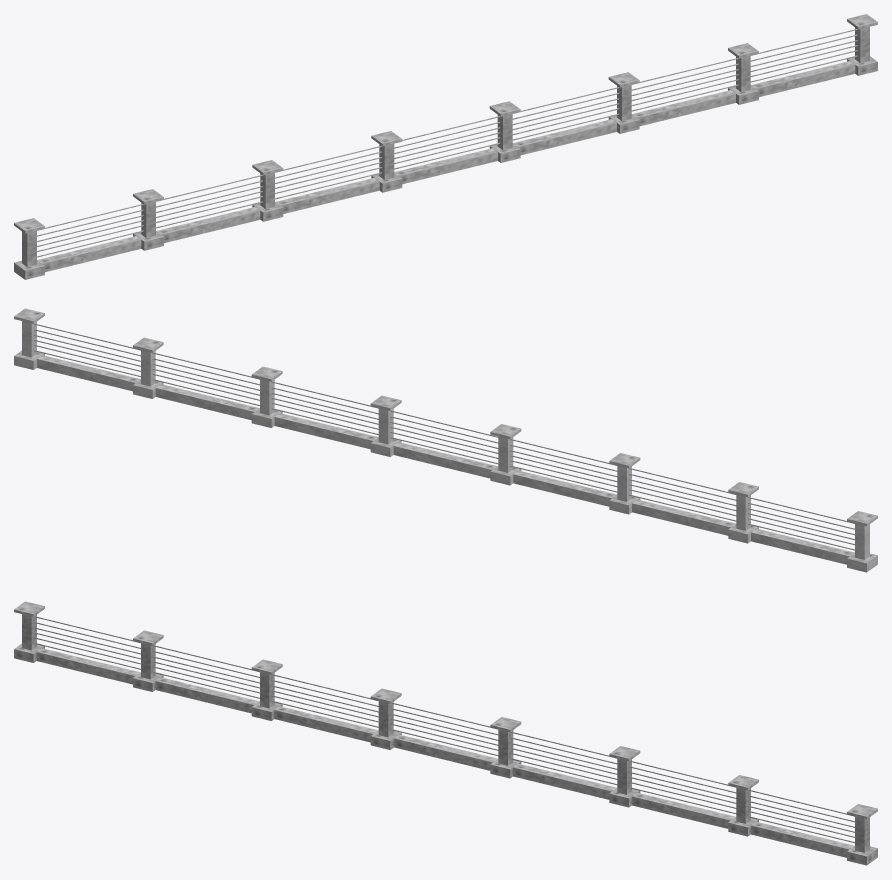
File: Congtruong1.obj
The picture shows the model from 3 angles, top to bottom: view 1: azimuth 30°, elevation 25°; view 2: azimuth 150°, elevation 25°; view 3: azimuth 330°, elevation 25°; orthographic projection.
Parts seen in each view (by area): view 1: Mesh1 Group2 Group1 H_ng_d_o_tr_i1 Model, Mesh41 Group40 Group1 H_ng_d_o_tr_i1 Model, Mesh12 Group12 Group1 H_ng_d_o_tr_i1 Model, Mesh51 Group50 Group1 H_ng_d_o_tr_i1 Model, Mesh21 Group21 Group1 H_ng_d_o_tr_i1 Model, Mesh30 Group30 Group1 H_ng_d_o_tr_i1 Model, Mesh50 Group49 Group1 H_ng_d_o_tr_i1 Model, Mesh10 Group11 Group1 H_ng_d_o_tr_i1 Model, Mesh13 Group13 Group1 H_ng_d_o_tr_i1 Model, Mesh42 Group41 Group1 H_ng_d_o_tr_i1 Model, Mesh33 Group32 Group1 H_ng_d_o_tr_i1 Model, Mesh52 Group51 Group1 H_ng_d_o_tr_i1 Model (+3 smaller); view 2: Mesh50 Group49 Group1 H_ng_d_o_tr_i1 Model, Mesh21 Group21 Group1 H_ng_d_o_tr_i1 Model, Mesh41 Group40 Group1 H_ng_d_o_tr_i1 Model, Mesh51 Group50 Group1 H_ng_d_o_tr_i1 Model, Mesh30 Group30 Group1 H_ng_d_o_tr_i1 Model, Mesh12 Group12 Group1 H_ng_d_o_tr_i1 Model, Mesh1 Group2 Group1 H_ng_d_o_tr_i1 Model, Mesh10 Group11 Group1 H_ng_d_o_tr_i1 Model, Mesh13 Group13 Group1 H_ng_d_o_tr_i1 Model, Mesh42 Group41 Group1 H_ng_d_o_tr_i1 Model, Mesh52 Group51 Group1 H_ng_d_o_tr_i1 Model, Mesh33 Group32 Group1 H_ng_d_o_tr_i1 Model (+3 smaller); view 3: Mesh12 Group12 Group1 H_ng_d_o_tr_i1 Model, Mesh41 Group40 Group1 H_ng_d_o_tr_i1 Model, Mesh21 Group21 Group1 H_ng_d_o_tr_i1 Model, Mesh50 Group49 Group1 H_ng_d_o_tr_i1 Model, Mesh51 Group50 Group1 H_ng_d_o_tr_i1 Model, Mesh30 Group30 Group1 H_ng_d_o_tr_i1 Model, Mesh1 Group2 Group1 H_ng_d_o_tr_i1 Model, Mesh8 Group10 Group1 H_ng_d_o_tr_i1 Model, Mesh13 Group13 Group1 H_ng_d_o_tr_i1 Model, Mesh42 Group41 Group1 H_ng_d_o_tr_i1 Model, Mesh33 Group32 Group1 H_ng_d_o_tr_i1 Model, Mesh52 Group51 Group1 H_ng_d_o_tr_i1 Model (+3 smaller).
Part boxes in pixels (left/top/right/bottom): Mesh1 Group2 Group1 H_ng_d_o_tr_i1 Model: left=751, top=61, right=855, bottom=97; Mesh41 Group40 Group1 H_ng_d_o_tr_i1 Model: left=156, top=207, right=260, bottom=243; Mesh12 Group12 Group1 H_ng_d_o_tr_i1 Model: left=37, top=236, right=141, bottom=272; Mesh51 Group50 Group1 H_ng_d_o_tr_i1 Model: left=513, top=119, right=616, bottom=155; Mesh21 Group21 Group1 H_ng_d_o_tr_i1 Model: left=276, top=178, right=379, bottom=213; Mesh30 Group30 Group1 H_ng_d_o_tr_i1 Model: left=632, top=90, right=735, bottom=126; Mesh50 Group49 Group1 H_ng_d_o_tr_i1 Model: left=394, top=148, right=497, bottom=184; Mesh10 Group11 Group1 H_ng_d_o_tr_i1 Model: left=14, top=231, right=44, bottom=279; Mesh13 Group13 Group1 H_ng_d_o_tr_i1 Model: left=371, top=143, right=402, bottom=192; Mesh42 Group41 Group1 H_ng_d_o_tr_i1 Model: left=489, top=114, right=520, bottom=162; Mesh33 Group32 Group1 H_ng_d_o_tr_i1 Model: left=252, top=173, right=283, bottom=221; Mesh52 Group51 Group1 H_ng_d_o_tr_i1 Model: left=608, top=85, right=639, bottom=133; Mesh50 Group49 Group1 H_ng_d_o_tr_i1 Model: left=393, top=442, right=497, bottom=478; Mesh21 Group21 Group1 H_ng_d_o_tr_i1 Model: left=513, top=470, right=616, bottom=506; Mesh41 Group40 Group1 H_ng_d_o_tr_i1 Model: left=632, top=499, right=735, bottom=535; Mesh51 Group50 Group1 H_ng_d_o_tr_i1 Model: left=274, top=413, right=378, bottom=449; Mesh30 Group30 Group1 H_ng_d_o_tr_i1 Model: left=155, top=384, right=259, bottom=420; Mesh12 Group12 Group1 H_ng_d_o_tr_i1 Model: left=751, top=528, right=854, bottom=564; Mesh1 Group2 Group1 H_ng_d_o_tr_i1 Model: left=37, top=355, right=140, bottom=391; Mesh10 Group11 Group1 H_ng_d_o_tr_i1 Model: left=847, top=523, right=877, bottom=572; Mesh13 Group13 Group1 H_ng_d_o_tr_i1 Model: left=490, top=436, right=521, bottom=485; Mesh42 Group41 Group1 H_ng_d_o_tr_i1 Model: left=370, top=408, right=401, bottom=456; Mesh52 Group51 Group1 H_ng_d_o_tr_i1 Model: left=251, top=379, right=282, bottom=427; Mesh33 Group32 Group1 H_ng_d_o_tr_i1 Model: left=609, top=465, right=640, bottom=514; Mesh12 Group12 Group1 H_ng_d_o_tr_i1 Model: left=36, top=648, right=140, bottom=684; Mesh41 Group40 Group1 H_ng_d_o_tr_i1 Model: left=155, top=677, right=259, bottom=713; Mesh21 Group21 Group1 H_ng_d_o_tr_i1 Model: left=274, top=706, right=377, bottom=742; Mesh50 Group49 Group1 H_ng_d_o_tr_i1 Model: left=394, top=734, right=497, bottom=770; Mesh51 Group50 Group1 H_ng_d_o_tr_i1 Model: left=513, top=763, right=616, bottom=799; Mesh30 Group30 Group1 H_ng_d_o_tr_i1 Model: left=632, top=792, right=735, bottom=828; Mesh1 Group2 Group1 H_ng_d_o_tr_i1 Model: left=751, top=821, right=854, bottom=857; Mesh8 Group10 Group1 H_ng_d_o_tr_i1 Model: left=847, top=816, right=877, bottom=865; Mesh13 Group13 Group1 H_ng_d_o_tr_i1 Model: left=370, top=701, right=401, bottom=749; Mesh42 Group41 Group1 H_ng_d_o_tr_i1 Model: left=490, top=729, right=521, bottom=778; Mesh33 Group32 Group1 H_ng_d_o_tr_i1 Model: left=251, top=672, right=282, bottom=720; Mesh52 Group51 Group1 H_ng_d_o_tr_i1 Model: left=609, top=758, right=640, bottom=807.
Size of the model in its own units: 32729 by 1792 by 797.
1 material, 1 textured.
